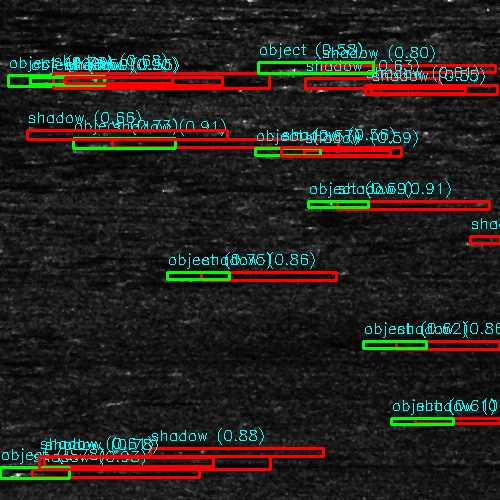rock: (0, 74, 144, 85), (83, 139, 156, 150), (7, 467, 70, 478), (294, 61, 347, 74), (197, 183, 260, 190), (283, 78, 314, 91), (381, 341, 422, 350), (348, 87, 411, 92), (289, 203, 352, 208), (446, 237, 487, 244), (18, 460, 49, 469), (169, 273, 222, 278), (121, 449, 162, 454), (0, 133, 37, 138), (115, 438, 146, 443)
shadow: (120, 139, 379, 150), (321, 61, 500, 74), (66, 74, 275, 85), (299, 78, 467, 91), (39, 467, 222, 478), (34, 460, 172, 469), (17, 133, 218, 138), (142, 449, 333, 454), (402, 341, 500, 350), (321, 203, 484, 208), (196, 273, 351, 278), (229, 183, 334, 190), (380, 87, 500, 92), (131, 438, 178, 443), (467, 237, 500, 244)
